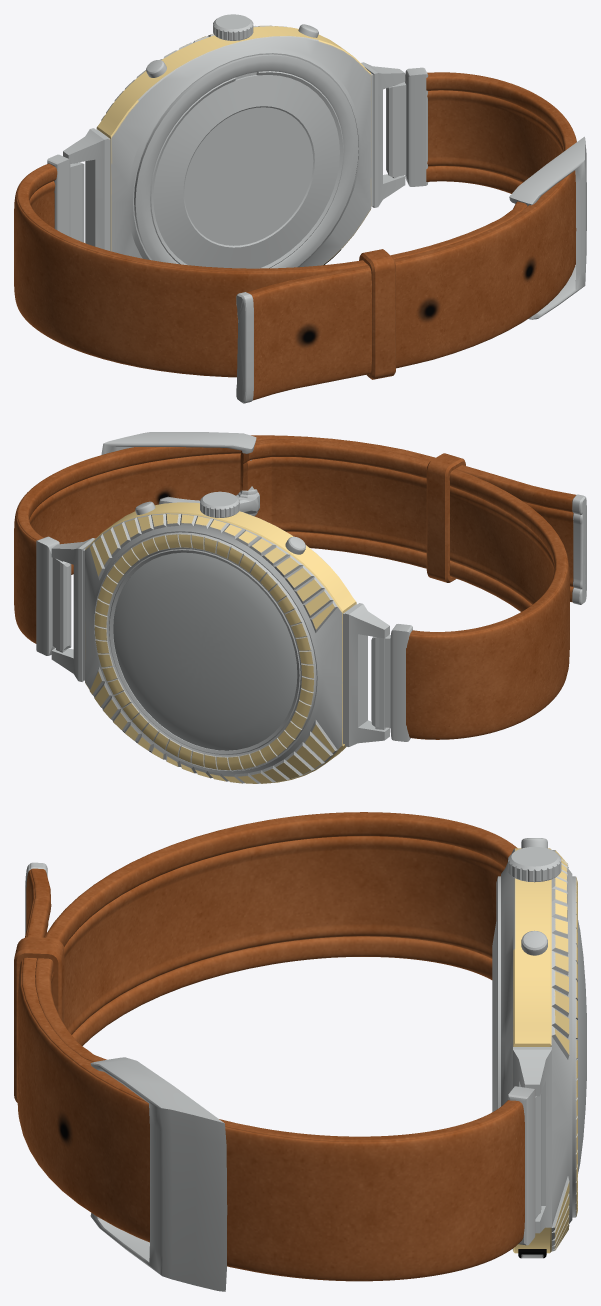
3 renders of one model, top to bottom at view 1: azimuth 30°, elevation 25°; view 2: azimuth 150°, elevation 25°; view 3: azimuth 270°, elevation 25°, orthographic. The views are drawn at different scales.
Bounding box in the file's own units: 1 × 0.5163 × 0.7262.
Materials: 14 (14 with a texture image).
